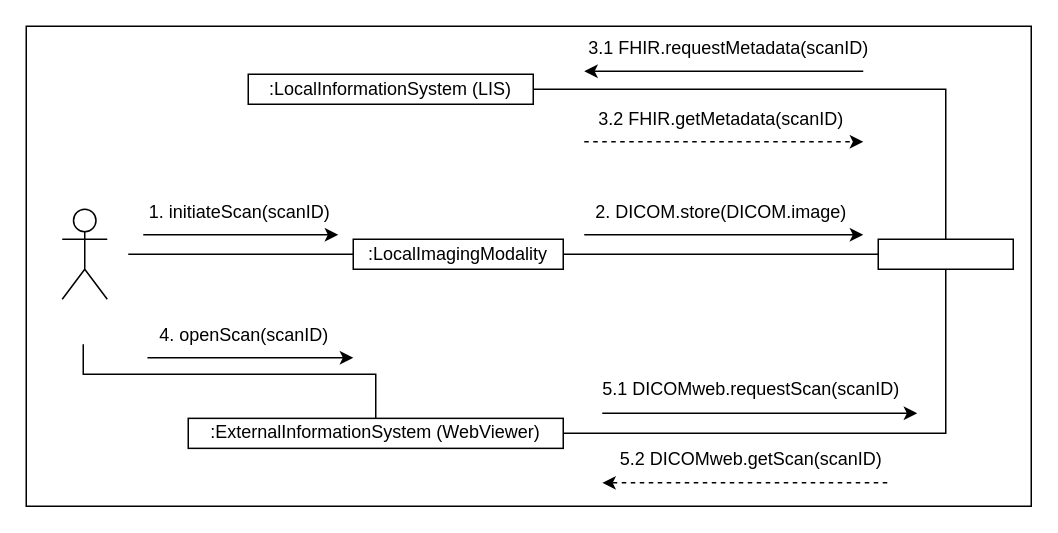
Image size: 1058x533. Some labels were removed from this diagram. Here are the shapes that lost their labels. From the top down, the box of each, then its label:
(61, 208, 107, 299): Pathologist
(877, 238, 1013, 269): :LocalPACS
